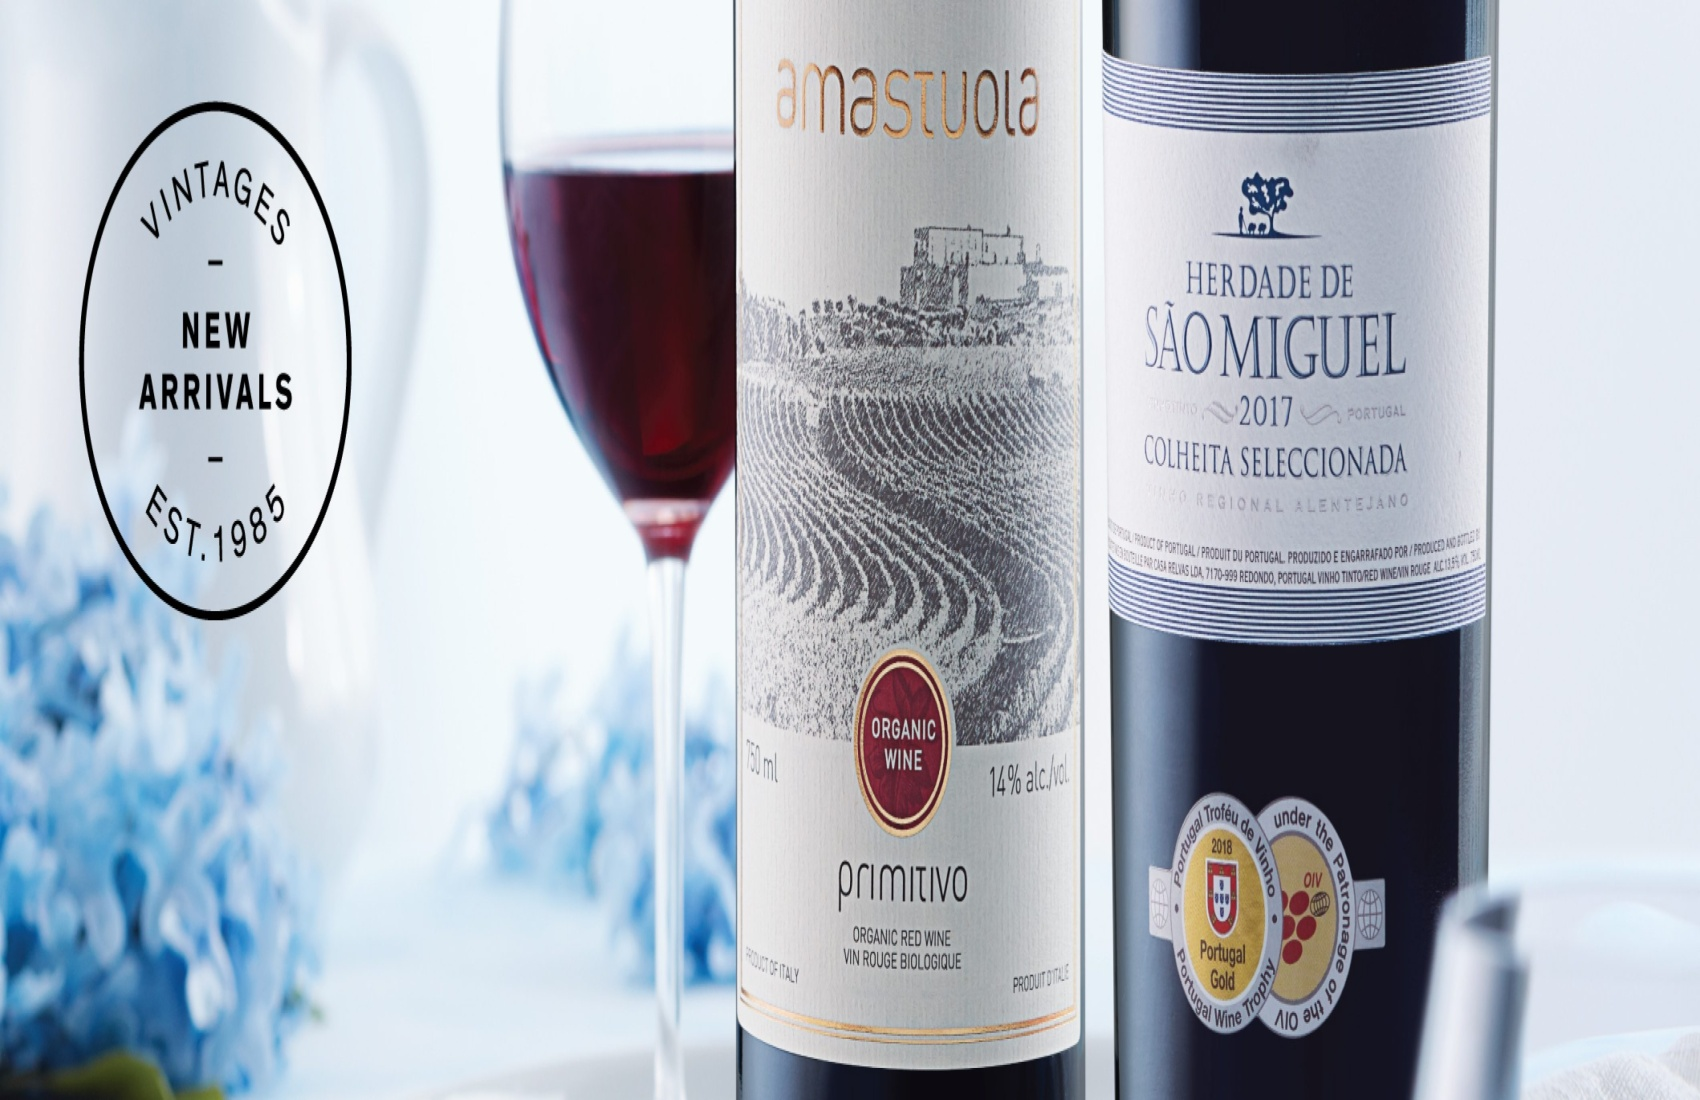wine: (1098, 2, 1489, 1083), (737, 10, 1089, 1080)
